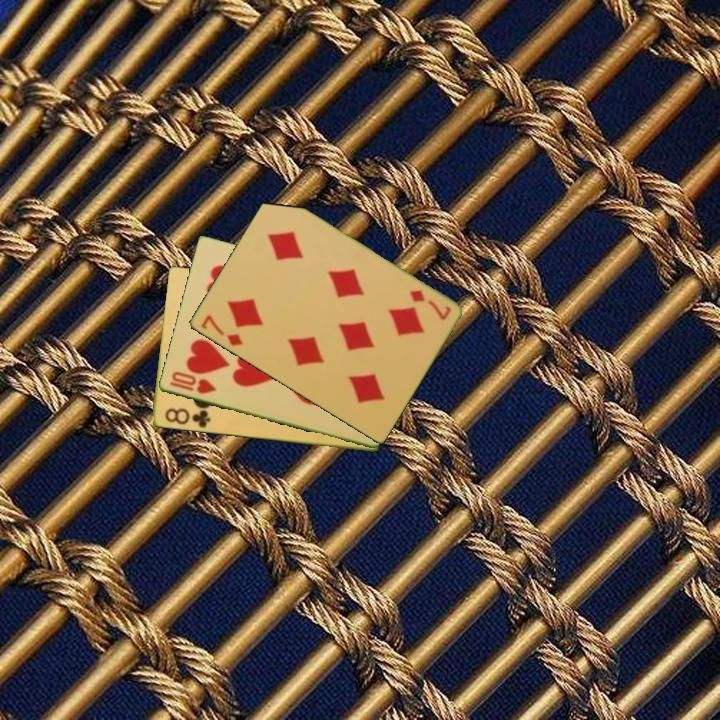10h: (166, 368, 218, 397)
7d: (197, 311, 245, 349), (405, 286, 453, 323)
8c: (161, 405, 213, 431)
